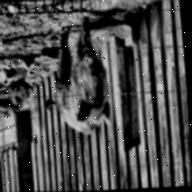boar: (41, 14, 120, 146)
